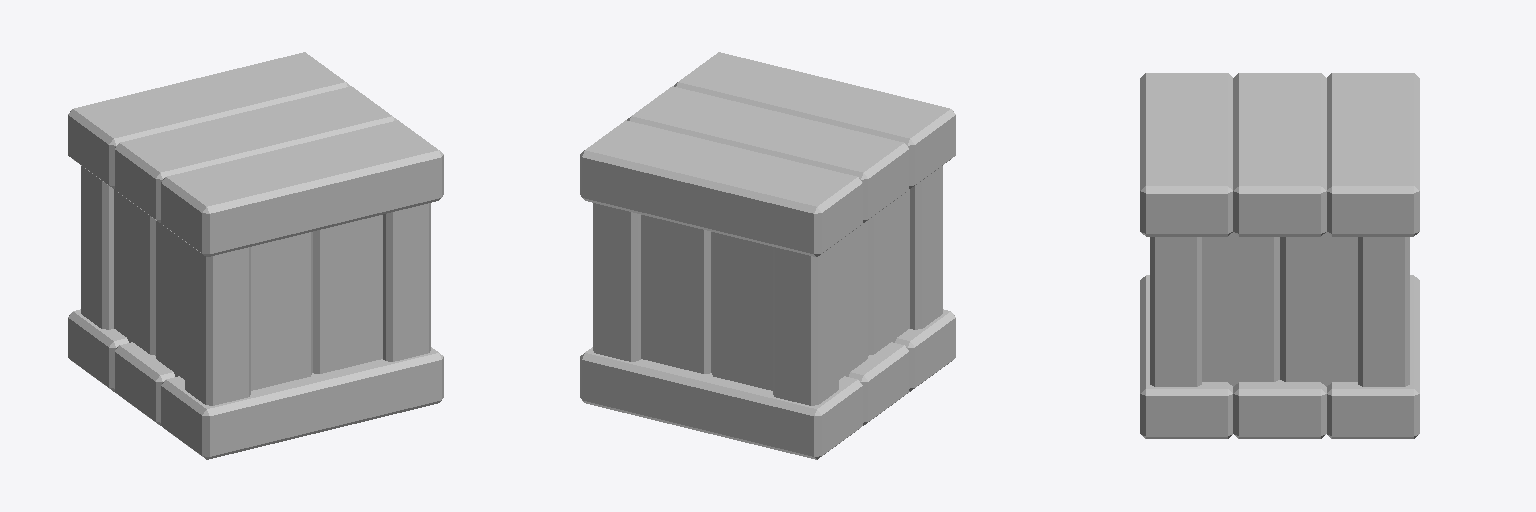
File: crate.obj
The picture shows the model from 3 angles: view 1: azimuth 30°, elevation 25°; view 2: azimuth 150°, elevation 25°; view 3: azimuth 270°, elevation 25°; orthographic projection.
Visible parts, largest first — view 1: crate; view 2: crate; view 3: crate.
Boxes of the visible parts, <box> form: crate: <box>68,52,443,459</box>; crate: <box>580,52,955,459</box>; crate: <box>1140,73,1419,438</box>.
Bounding box in the file's own units: 2 × 2 × 2.